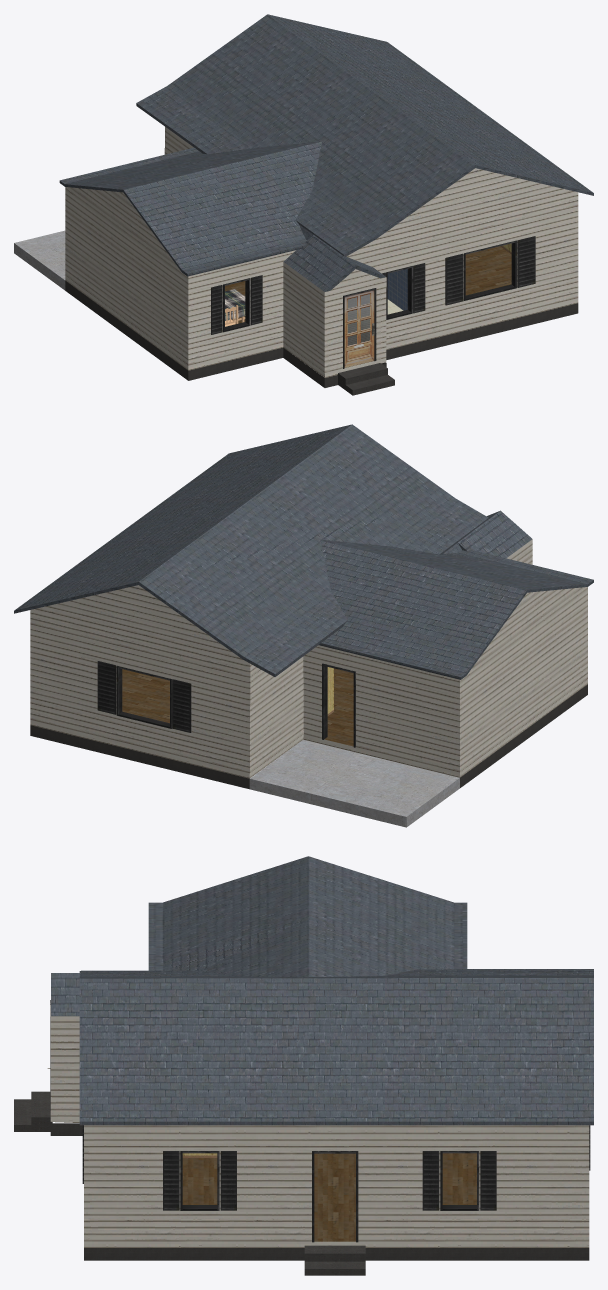
Rendered from L_house.glb.
3 renders of one model, top to bottom at view 1: azimuth 30°, elevation 25°; view 2: azimuth 150°, elevation 25°; view 3: azimuth 270°, elevation 25°, orthographic. The views are drawn at different scales.
Visible parts, largest first — view 1: House_Demo_001_RooftilesSlate_0, House_Demo_040_Wood_0, House_Demo_040_Rooftiles_0, House_Demo_039_Door_0, House_Demo_040_Wood_02_0, House_Demo_040_Concrete_01_0, House_Demo_002_Rooftiles_0, House_Demo_018_Wood_03_0, House_Demo_019_Wood_03_0, House_Demo_010_Wood_03_0, House_Demo_040_Tiles_0, House_Demo_017_Wood_03_0 (+5 smaller); view 2: House_Demo_001_RooftilesSlate_0, House_Demo_040_Wood_0, House_Demo_040_Concrete_01_0, House_Demo_040_Rooftiles_0, House_Demo_040_Wood_02_0, House_Demo_020_Wood_03_0, House_Demo_021_Wood_03_0, House_Demo_011_Wood_03_0, House_Demo_005_Wood_03_0; view 3: House_Demo_001_RooftilesSlate_0, House_Demo_040_Wood_0, House_Demo_040_Wood_02_0, House_Demo_040_Rooftiles_0, House_Demo_003_Rooftiles_0, House_Demo_002_Rooftiles_0, House_Demo_026_Wood_03_0, House_Demo_024_Wood_03_0, House_Demo_025_Wood_03_0, House_Demo_027_Wood_03_0, House_Demo_015_Wood_03_0, House_Demo_013_Wood_03_0 (+1 smaller).
Boxes of the visible parts, bbox=[...] form: House_Demo_001_RooftilesSlate_0: bbox=[59, 14, 593, 291]; House_Demo_040_Wood_0: bbox=[65, 127, 578, 377]; House_Demo_040_Rooftiles_0: bbox=[65, 281, 578, 387]; House_Demo_039_Door_0: bbox=[344, 290, 374, 367]; House_Demo_040_Wood_02_0: bbox=[225, 246, 511, 367]; House_Demo_040_Concrete_01_0: bbox=[14, 230, 65, 290]; House_Demo_002_Rooftiles_0: bbox=[338, 363, 394, 395]; House_Demo_018_Wood_03_0: bbox=[445, 253, 463, 305]; House_Demo_019_Wood_03_0: bbox=[517, 236, 535, 287]; House_Demo_010_Wood_03_0: bbox=[464, 240, 516, 300]; House_Demo_040_Tiles_0: bbox=[387, 269, 407, 310]; House_Demo_017_Wood_03_0: bbox=[413, 263, 425, 313]; House_Demo_001_RooftilesSlate_0: bbox=[14, 424, 593, 679]; House_Demo_040_Wood_0: bbox=[30, 539, 587, 778]; House_Demo_040_Concrete_01_0: bbox=[249, 739, 459, 827]; House_Demo_040_Rooftiles_0: bbox=[30, 684, 587, 789]; House_Demo_040_Wood_02_0: bbox=[122, 668, 353, 746]; House_Demo_020_Wood_03_0: bbox=[172, 679, 191, 732]; House_Demo_021_Wood_03_0: bbox=[97, 661, 116, 714]; House_Demo_011_Wood_03_0: bbox=[116, 665, 172, 728]; House_Demo_005_Wood_03_0: bbox=[322, 663, 355, 747]; House_Demo_001_RooftilesSlate_0: bbox=[51, 856, 593, 1125]; House_Demo_040_Wood_0: bbox=[50, 1005, 589, 1247]; House_Demo_040_Wood_02_0: bbox=[182, 1153, 476, 1241]; House_Demo_040_Rooftiles_0: bbox=[50, 1123, 589, 1260]; House_Demo_003_Rooftiles_0: bbox=[304, 1245, 365, 1275]; House_Demo_002_Rooftiles_0: bbox=[14, 1091, 52, 1131]; House_Demo_026_Wood_03_0: bbox=[422, 1151, 439, 1210]; House_Demo_024_Wood_03_0: bbox=[163, 1151, 179, 1210]; House_Demo_025_Wood_03_0: bbox=[220, 1151, 236, 1210]; House_Demo_027_Wood_03_0: bbox=[480, 1151, 496, 1210]; House_Demo_015_Wood_03_0: bbox=[312, 1151, 358, 1242]; House_Demo_013_Wood_03_0: bbox=[180, 1151, 219, 1210].
Size of the model in its own units: 12.85 by 5.52 by 13.28.
56 materials, 56 textured.
